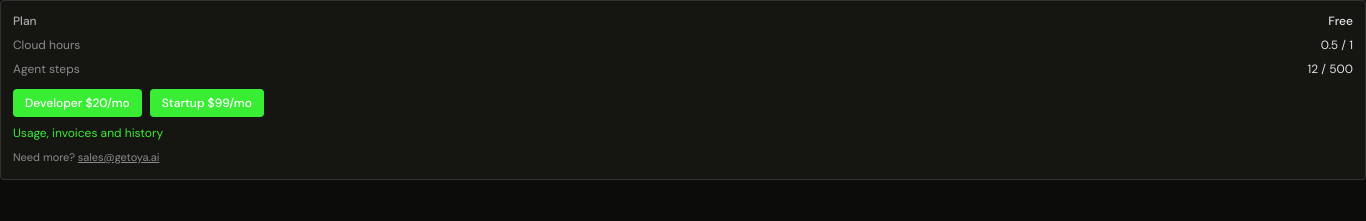
it: PlanSection › opens Checkout for the plan clicked
The image size is (1366, 221).
Click the button "Startup $99/mo". click: click(207, 103)
box: x1=150 y1=89 x2=264 y2=117
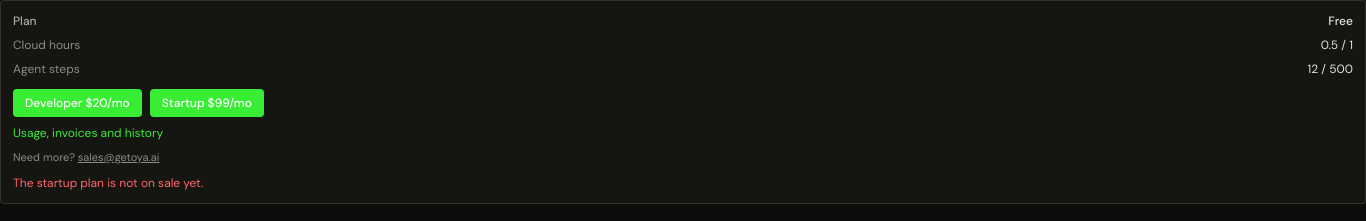
Check: the text "The startup plan is not on sale yet." is shown, box x1=13 y1=175 x2=203 y2=191
